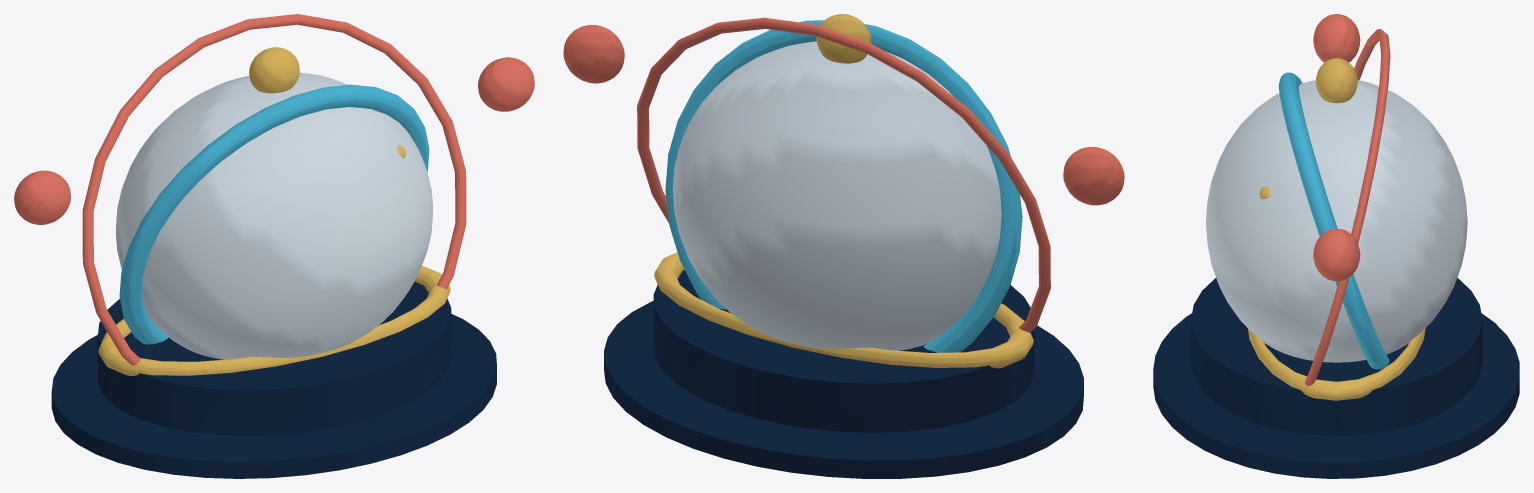
Rendered from 0042_天文图鉴_木卫二.glb.
3 renders of one model, left to right at view 1: azimuth 30°, elevation 25°; view 2: azimuth 150°, elevation 25°; view 3: azimuth 270°, elevation 25°, orthographic. The views are drawn at different scales.
Visible parts, largest first — view 1: card_0042; view 2: card_0042; view 3: card_0042.
Part boxes in pixels (x1,y1,x2,y2): card_0042: (14, 14, 534, 478); card_0042: (563, 14, 1124, 478); card_0042: (1153, 14, 1519, 478).
Size of the model in its own units: 1.51 by 1 by 0.9813.
